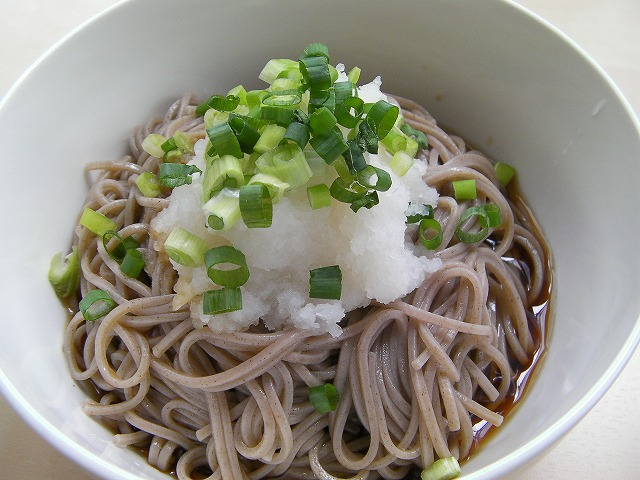Soba: (41, 78, 531, 474)
